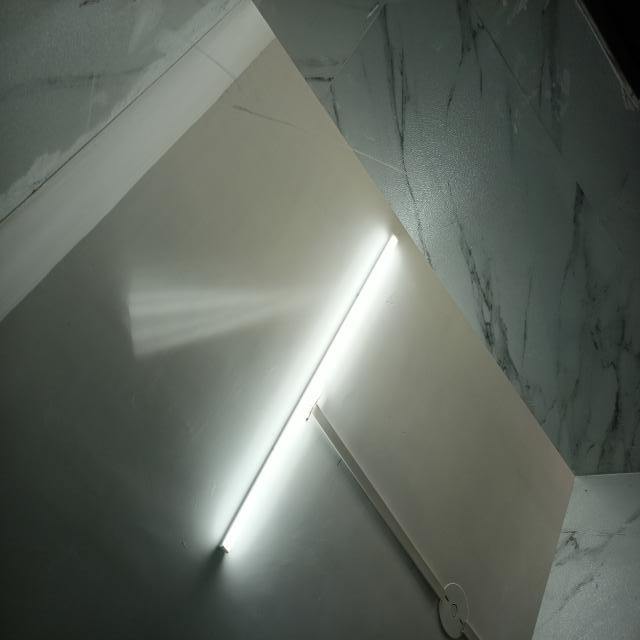fluorescent tube: (220, 235, 398, 553)
